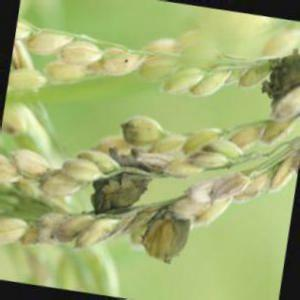Leaf_Scald: (86, 162, 152, 214), (139, 203, 186, 262), (261, 44, 300, 103)
